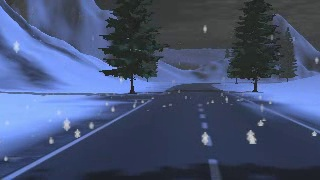Lane: (4, 82, 319, 179)
